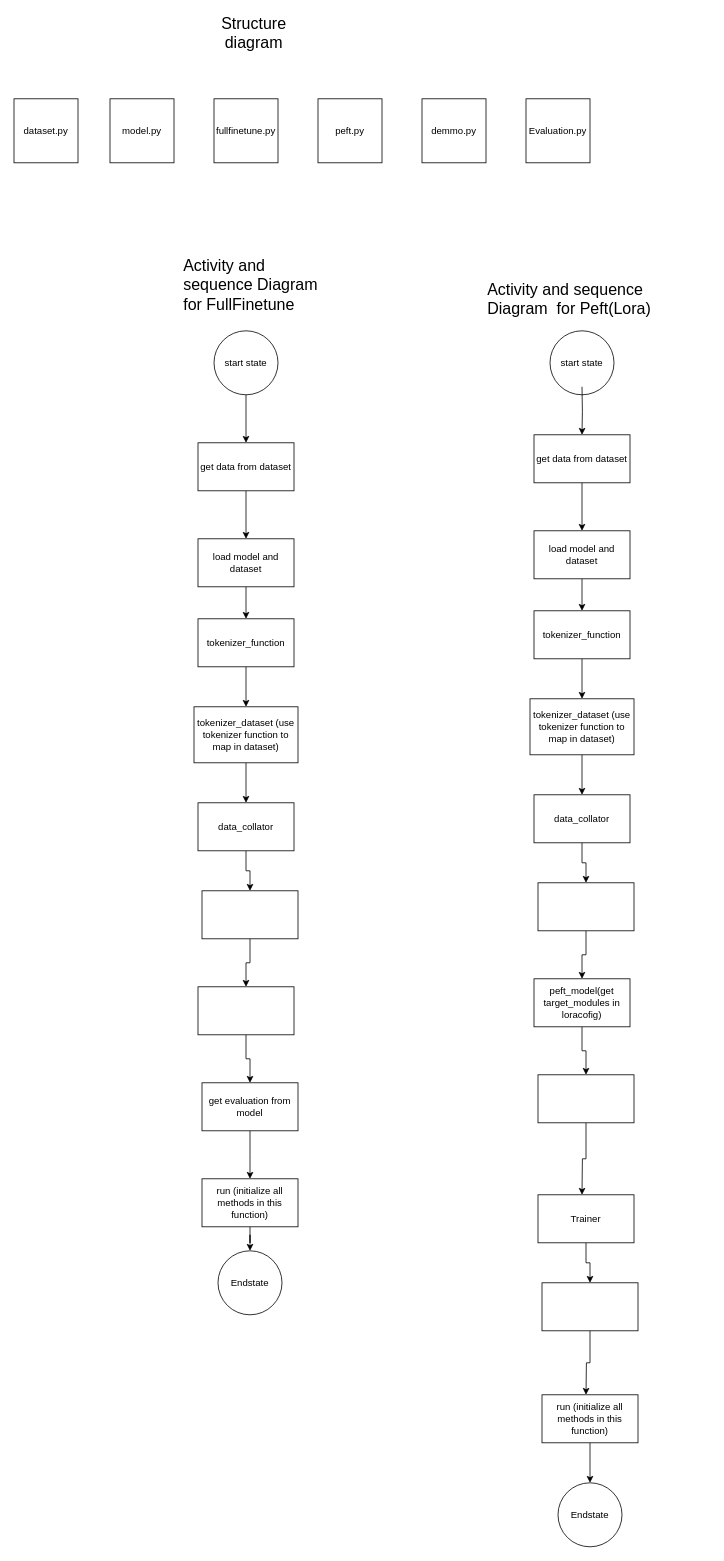
This 724x1561 diagram has some shape labels left out. The centre of each missing label's shape, as x and y in pixels:
Evaluation: [589,1306]
LoraConfig(): [585,906]
trainer_function: [245,1010]
Training_args: [585,1098]
training_args_function: [249,914]
